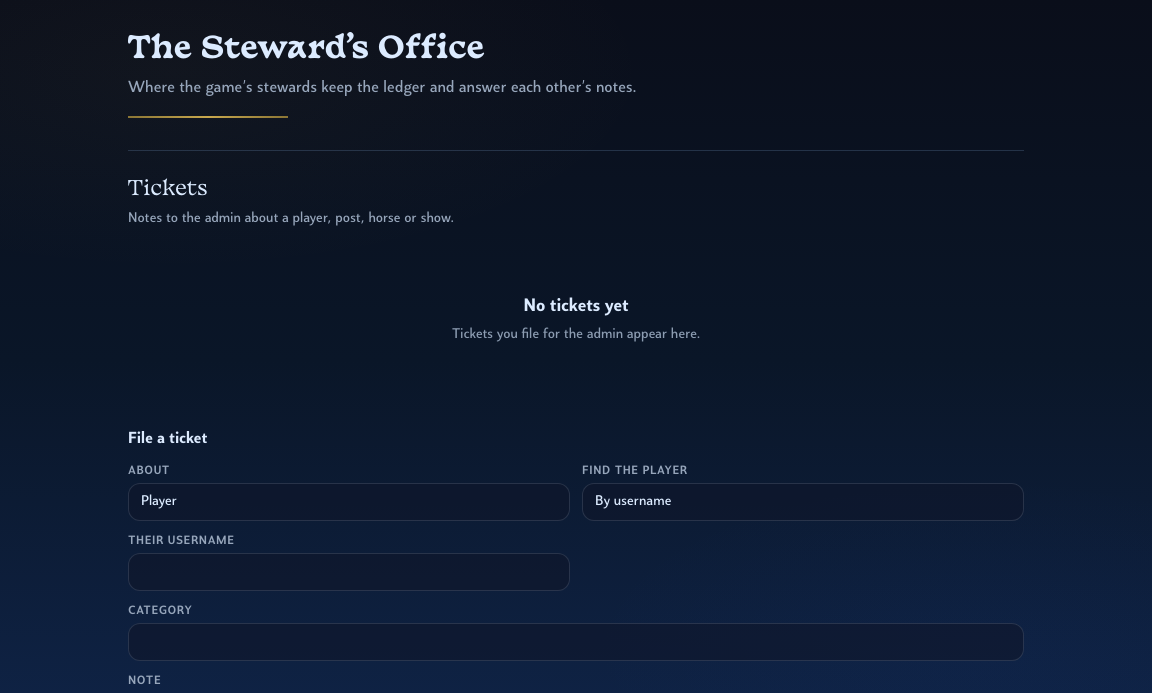
Test: The Steward's Office › a 404 for a steward who is still staff leaves the office open
The width and height of the screenshot is (1152, 693).
Type "Mara" into the field labelled "Their username" at [349, 572], box [128, 553, 570, 591]
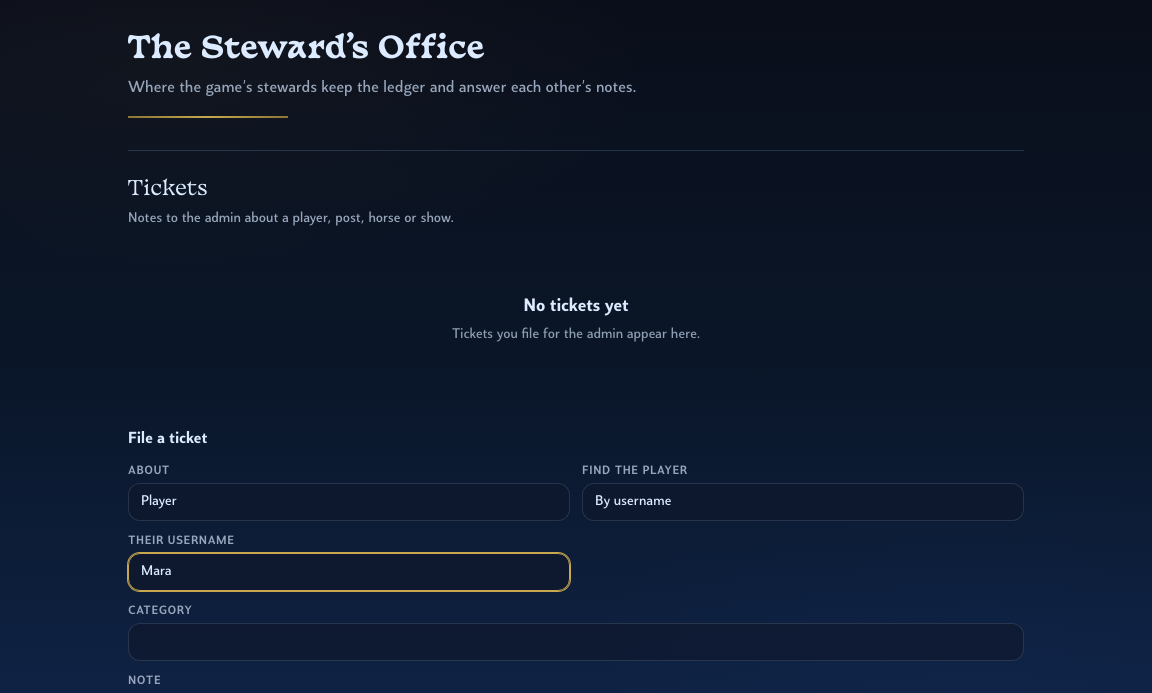
Type "Spam" into the field labelled "Category" at [576, 642], box [128, 623, 1024, 661]
(page scrolled)
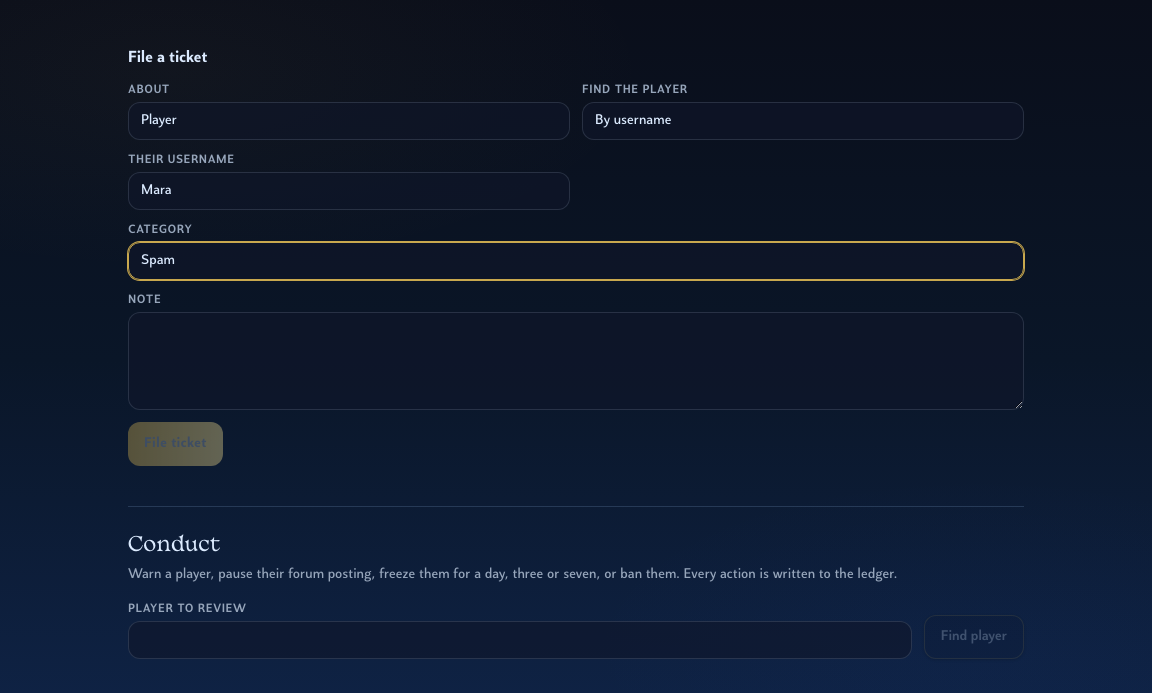
Type "Selling coins" into the text box labelled "Note" at [576, 361], box [128, 312, 1024, 410]
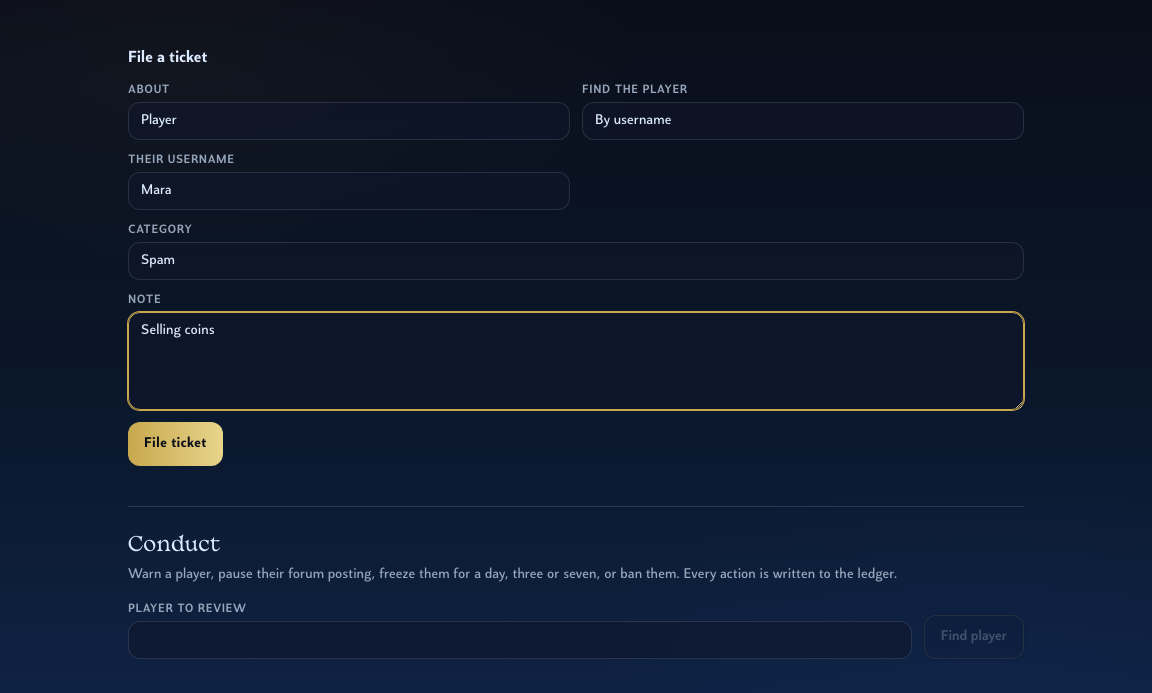
Click the button "File ticket" at [175, 444], box [128, 422, 223, 466]
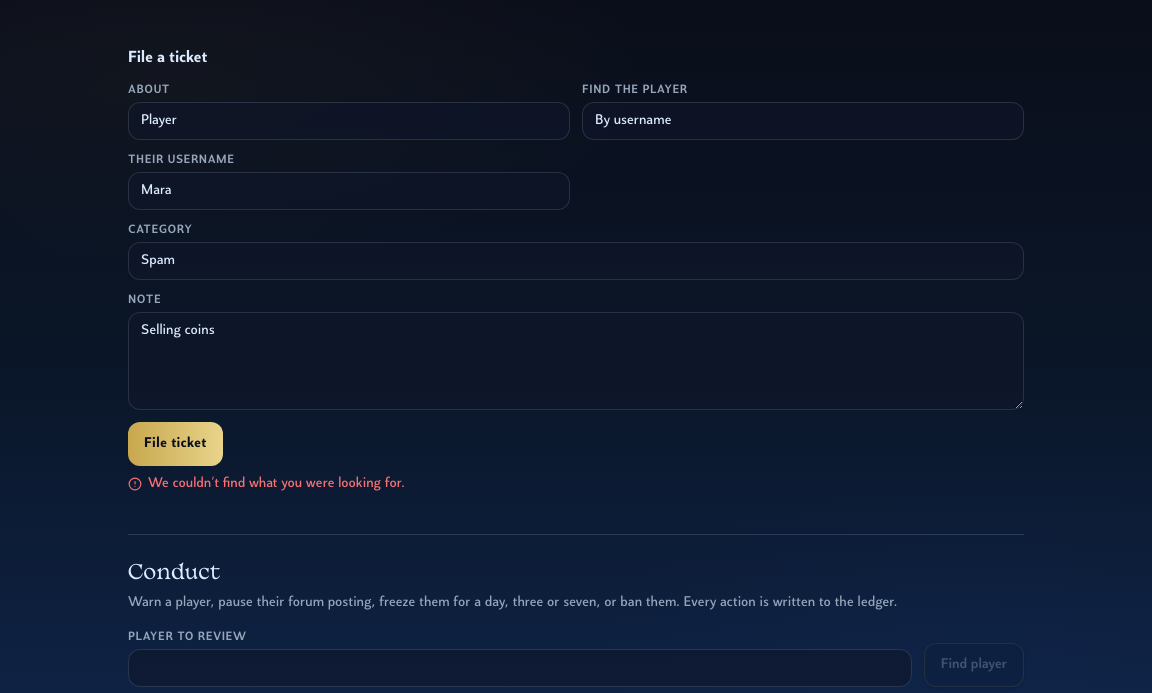
Now the message "We couldn't find what you were looking for." is shown, box [128, 474, 405, 494]
